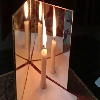fire: (41, 14, 47, 52)
